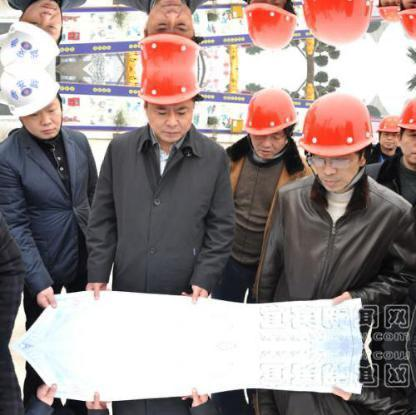helmet: (298, 90, 374, 156), (241, 82, 299, 139), (0, 68, 61, 118), (140, 69, 204, 107), (398, 94, 416, 135), (374, 114, 401, 134)
